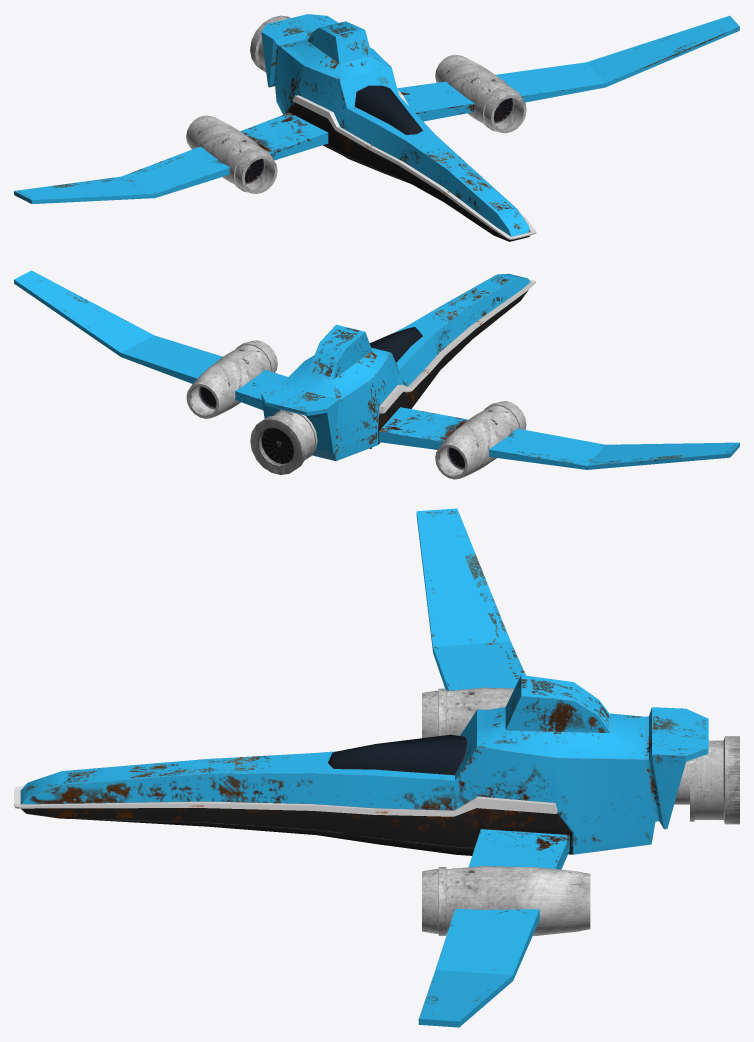
The model's file is Spaceship.glb.
The picture shows the model from 3 angles, top to bottom: view 1: azimuth 30°, elevation 25°; view 2: azimuth 150°, elevation 25°; view 3: azimuth 270°, elevation 25°; orthographic projection. The views are drawn at different scales.
Parts seen in each view (by area): view 1: lowPoly; view 2: lowPoly; view 3: lowPoly.
Boxes of the visible parts, x1,y1,x2,y2 form: lowPoly: (14, 14, 739, 241); lowPoly: (14, 270, 739, 479); lowPoly: (14, 508, 739, 1027).
Size of the model in its own units: 300 by 43.19 by 179.
1 material, 1 textured.
